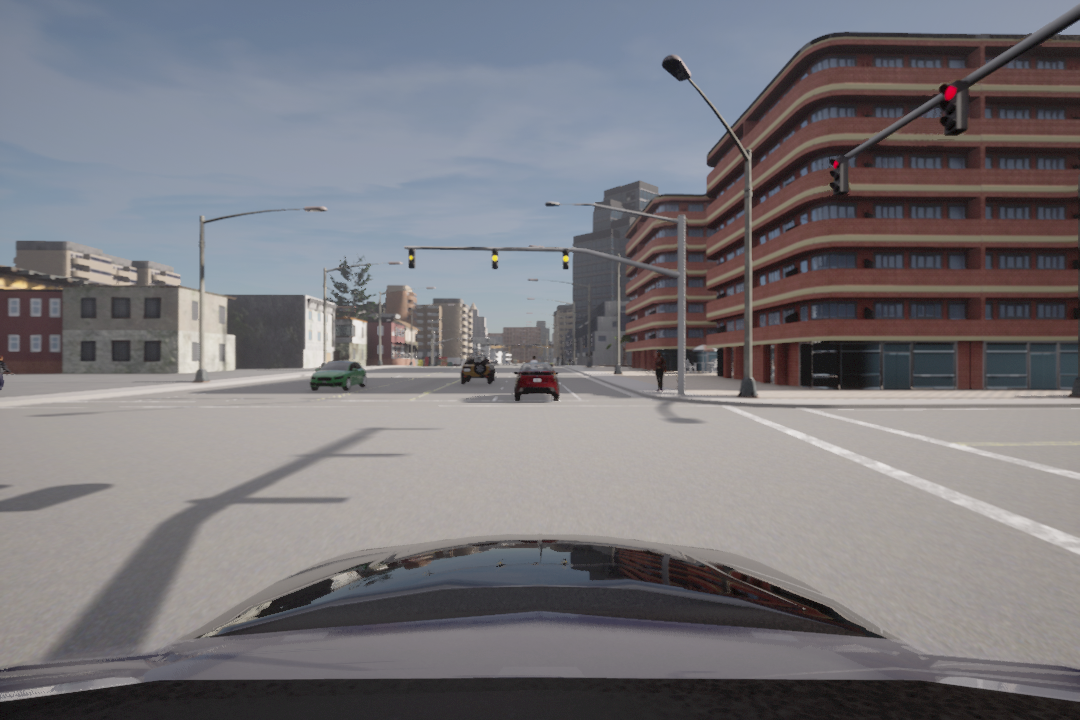TrafficLight: (937, 81, 972, 138), (826, 153, 853, 199), (489, 244, 501, 272), (404, 247, 417, 267), (561, 247, 570, 272)
